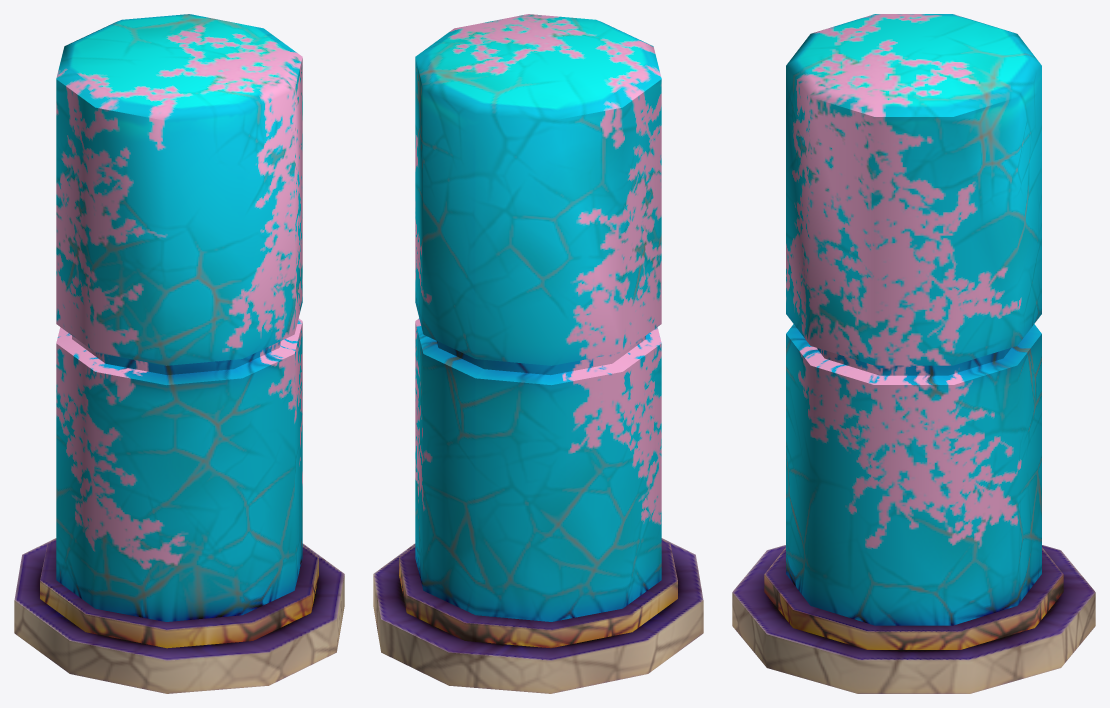
The model's file is Structure_Vapor_Column_01_Art.fbx.
3 views of the same model, side by side, from view 1: azimuth 30°, elevation 25°; view 2: azimuth 150°, elevation 25°; view 3: azimuth 270°, elevation 25° (orthographic).
Visible parts, largest first — view 1: Structure_Vapor_Column_01; view 2: Structure_Vapor_Column_01; view 3: Structure_Vapor_Column_01.
Part boxes in pixels (bbox=[...]): Structure_Vapor_Column_01: bbox=[14, 14, 344, 693]; Structure_Vapor_Column_01: bbox=[373, 14, 703, 693]; Structure_Vapor_Column_01: bbox=[732, 14, 1095, 693].
Size of the model in its own units: 1.67 by 3.27 by 1.88.
